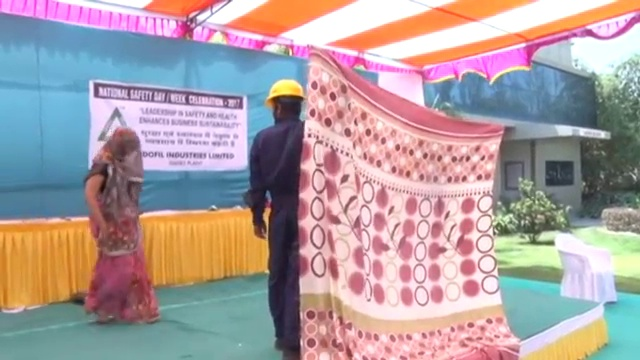helmet: (261, 77, 308, 107)
helmet_off: (108, 121, 139, 157)
helmet_on: (260, 77, 307, 128)
person: (80, 121, 160, 323), (249, 78, 302, 360)
